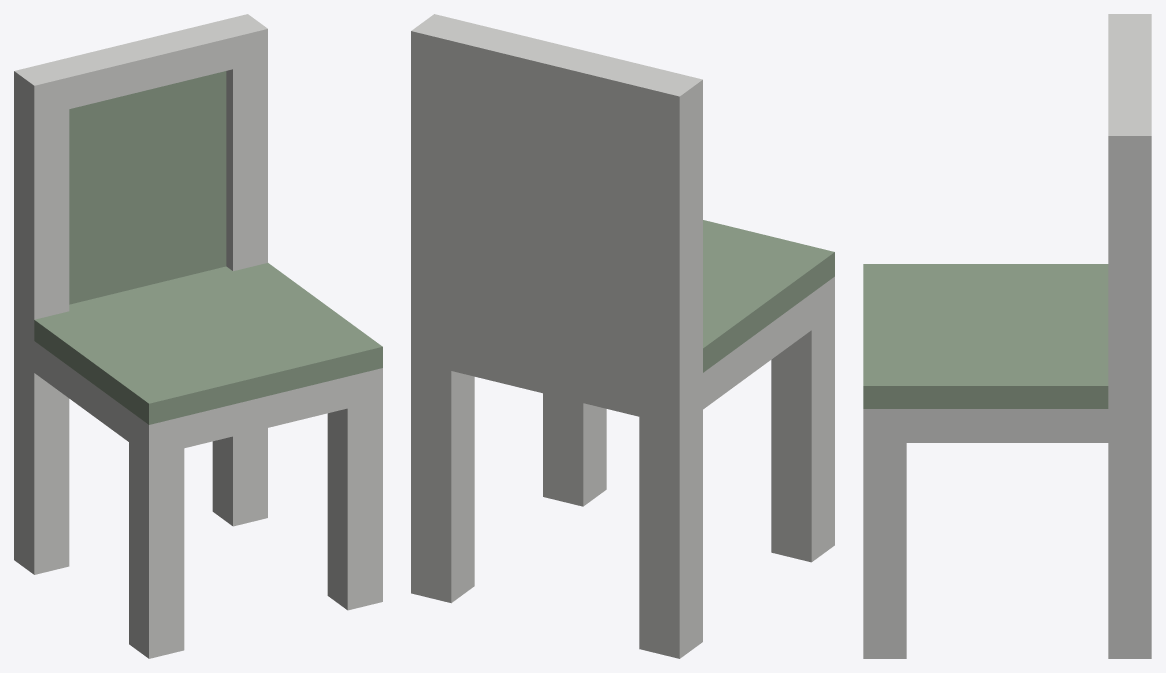
File: chair-modern.glb
3 renders of one model, left to right at view 1: azimuth 30°, elevation 25°; view 2: azimuth 150°, elevation 25°; view 3: azimuth 270°, elevation 25°, orthographic. The views are drawn at different scales.
Parts seen in each view (by area): view 1: chair-modern; view 2: chair-modern; view 3: chair-modern.
Part boxes in pixels (bbox=[...]): chair-modern: bbox=[14, 14, 382, 658]; chair-modern: bbox=[411, 14, 834, 658]; chair-modern: bbox=[863, 14, 1151, 658].
Bounding box in the file's own units: 0.44 × 0.88 × 0.44.
